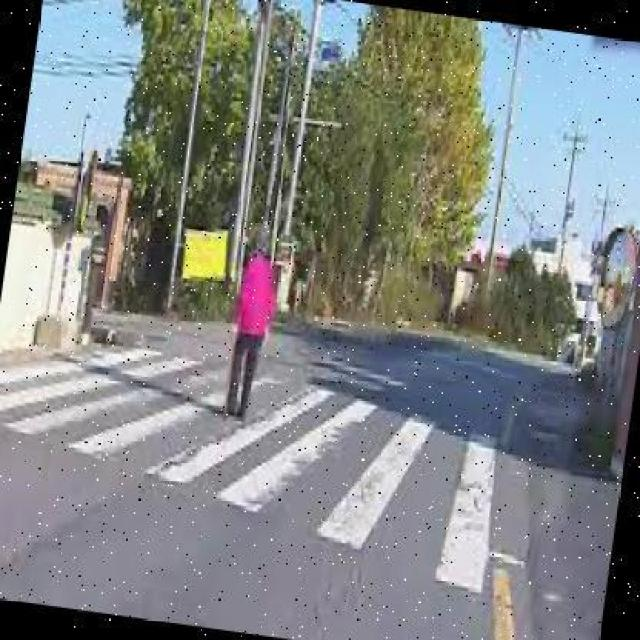-: (216, 220, 282, 422)
